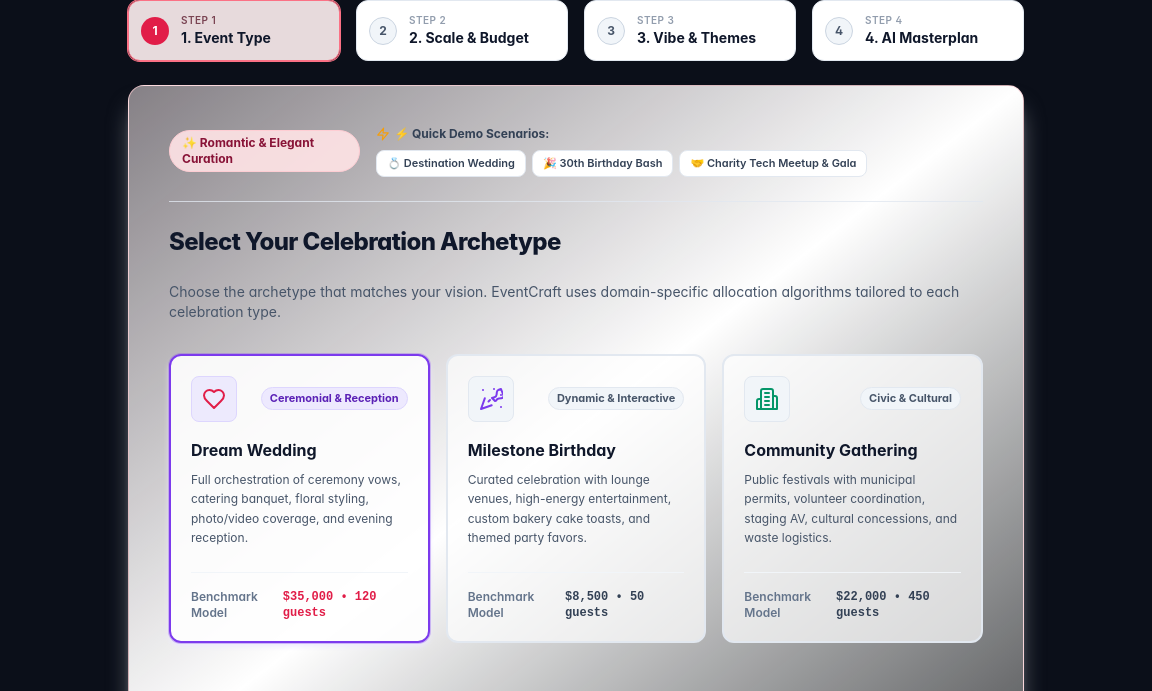
Test case: EventWizard Component (WCAG 2.1 AA & Keyboard UX) › adapts event styling and sub-heading badge dynamically based on selected eventType
The image size is (1152, 691).
Expected: the text "✨ Romantic & Elegant Curation" is shown, left=169, top=130, right=360, bottom=172
Switch to Birthday
Click the radio button labelled "Milestone Birthday".
click(576, 498)  # box left=446, top=354, right=706, bottom=642
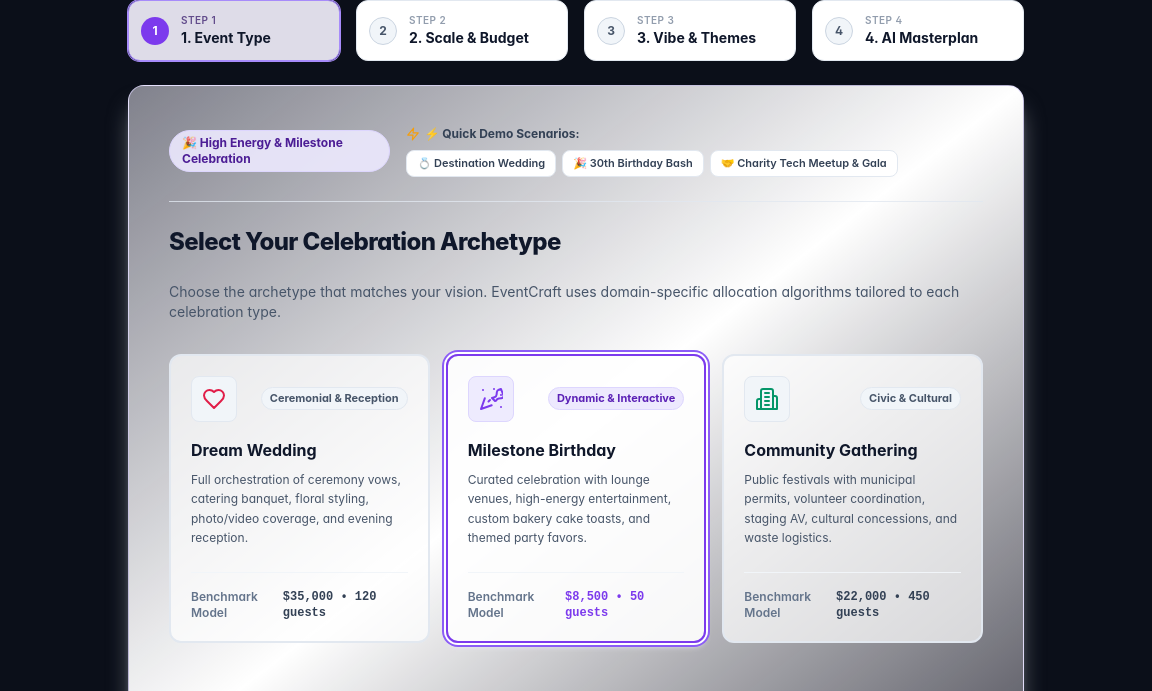
Now the text "🎉 High Energy & Milestone Celebration" is shown, box left=169, top=130, right=390, bottom=172
Switch to Community
Click the radio button labelled "Community Gathering".
click(853, 498)  # box left=722, top=354, right=983, bottom=642
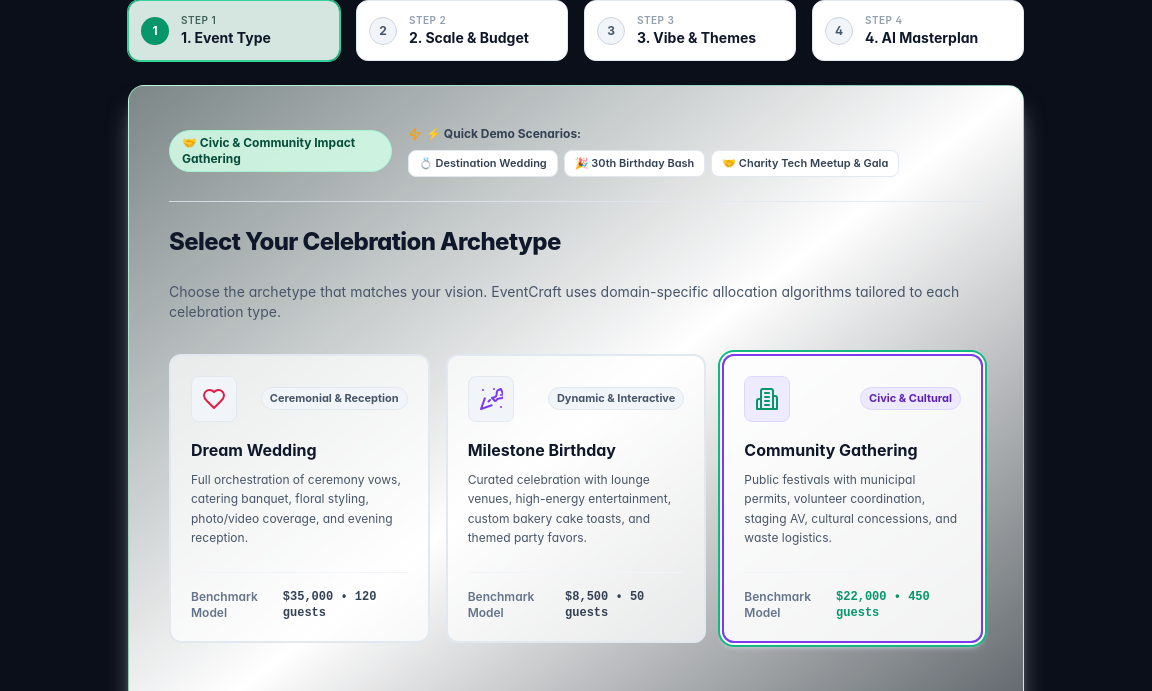
Now the text "🤝 Civic & Community Impact Gathering" is shown, box left=169, top=130, right=392, bottom=172
